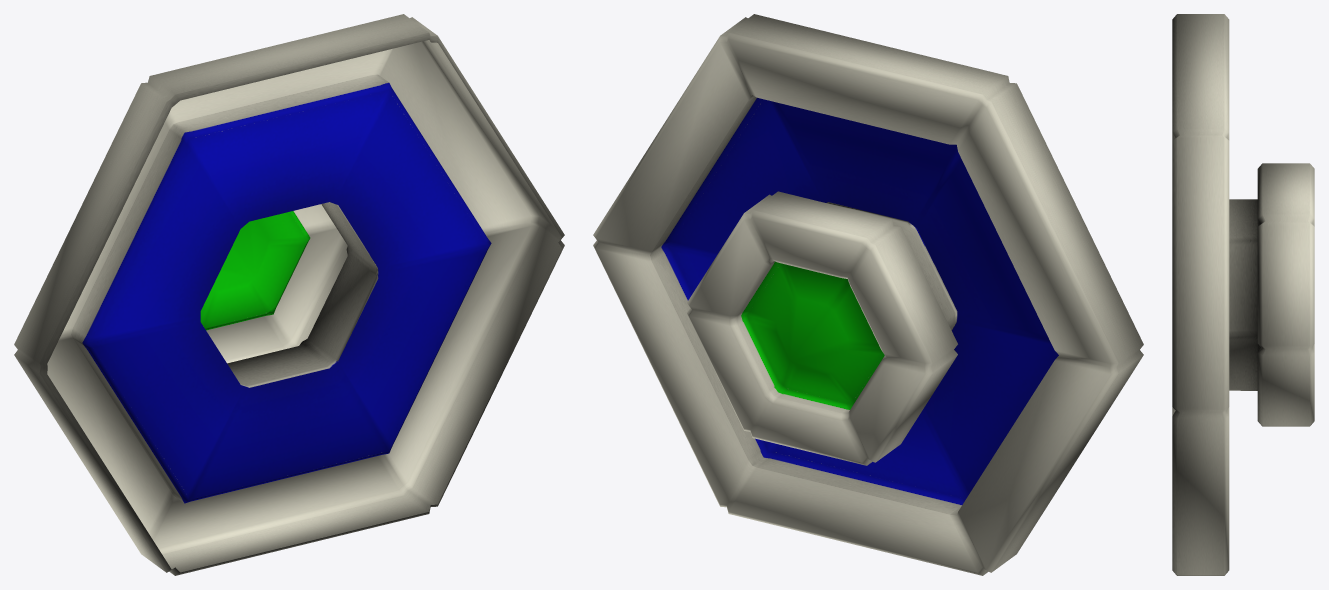
Rendered from fountain.fbx.
The picture shows the model from 3 angles, left to right: view 1: azimuth 30°, elevation 25°; view 2: azimuth 150°, elevation 25°; view 3: azimuth 270°, elevation 25°; orthographic projection. The views are drawn at different scales.
Parts seen in each view (by area): view 1: Cube; view 2: Cube; view 3: Cube.
Part boxes in pixels (box(x1,y1,x2,y2)): Cube: box(14, 14, 564, 575); Cube: box(593, 14, 1143, 575); Cube: box(1172, 14, 1314, 575).
Bounding box in the file's own units: 59360 × 51962 × 15000.
